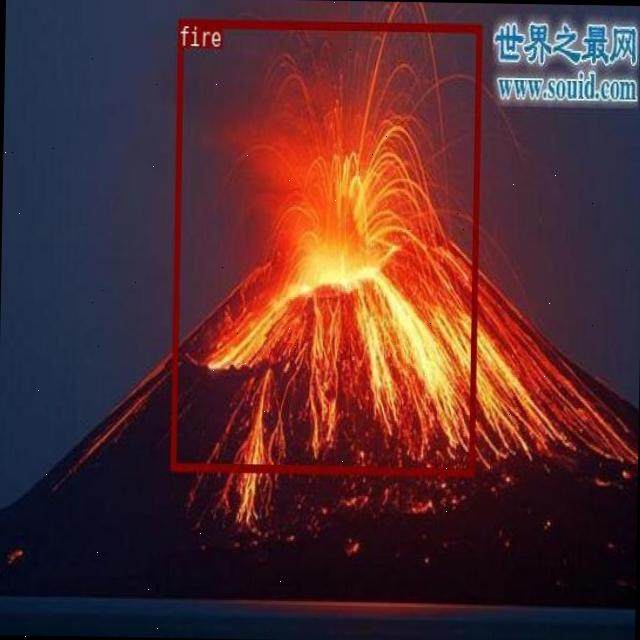fire: (169, 18, 482, 474)
